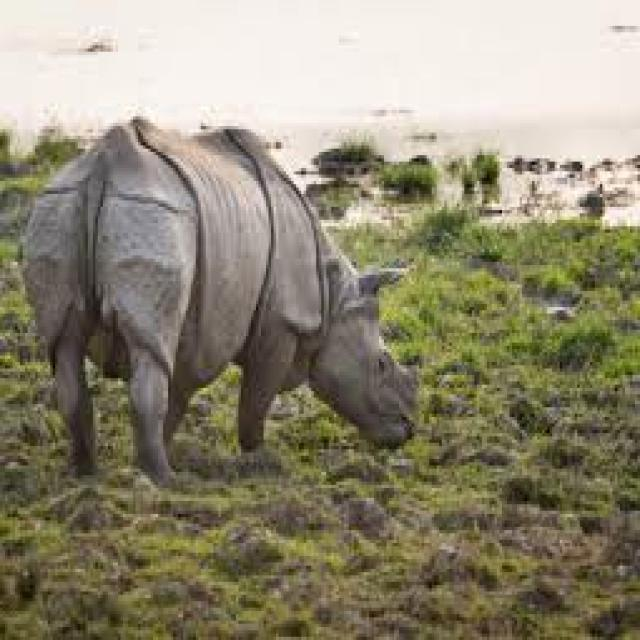rhinoceros: (25, 116, 417, 482)
